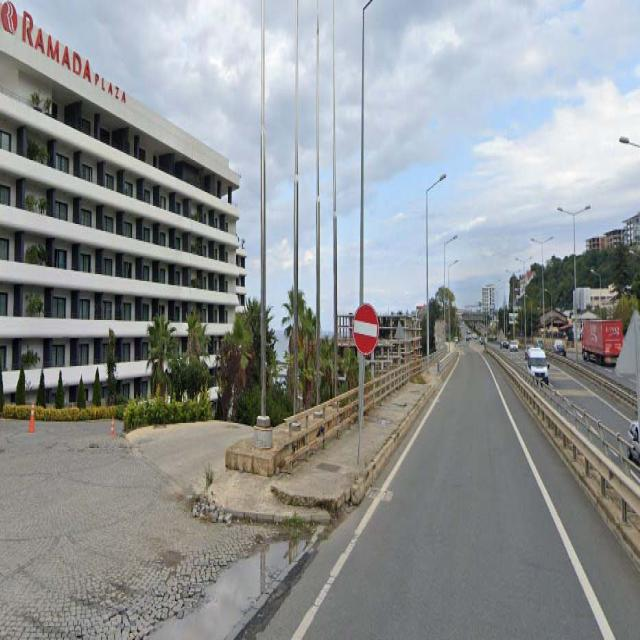girisyok: (353, 302, 377, 356)
